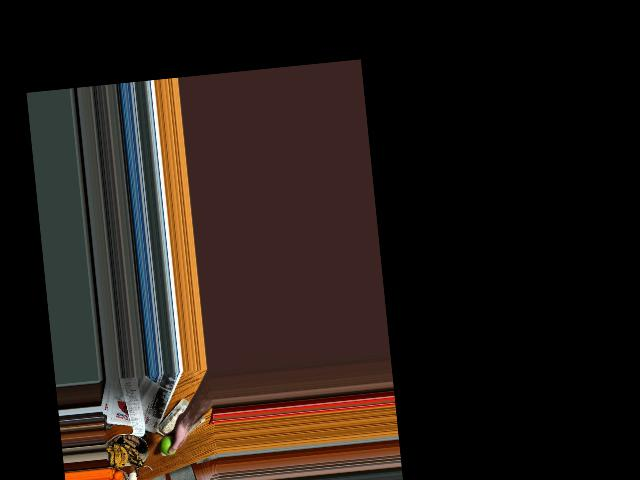apple: (158, 432, 180, 456)
